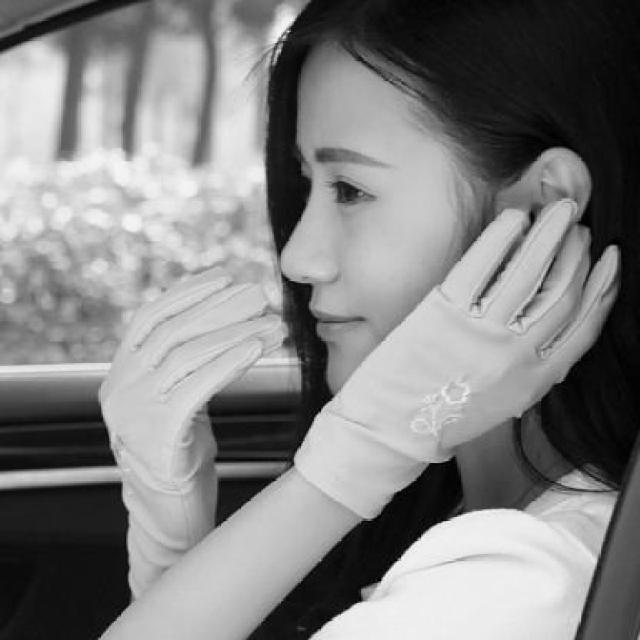face_nomask: (257, 69, 477, 408)
hand_glove: (351, 197, 629, 475), (93, 263, 284, 523)
head_nohelmet: (251, 11, 635, 160)
